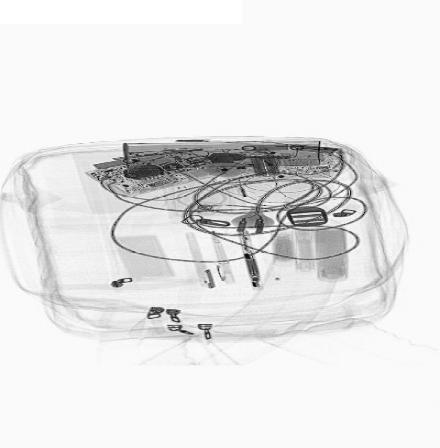Lighter: (228, 176, 254, 210)
